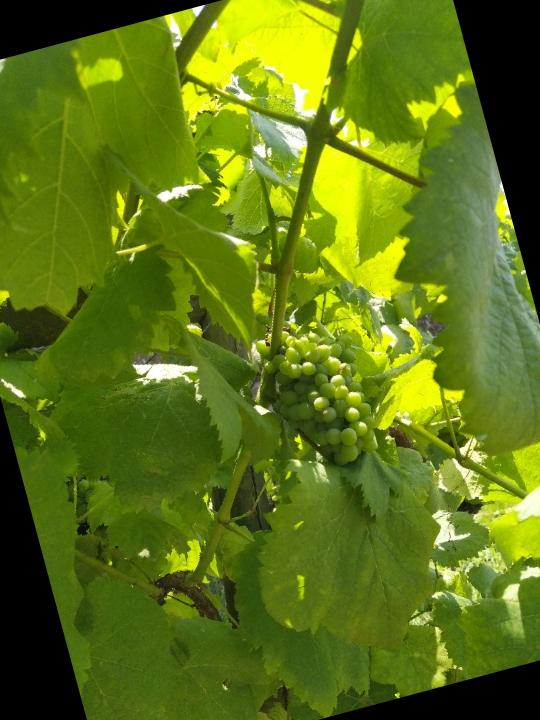grape: (249, 307, 388, 481)
